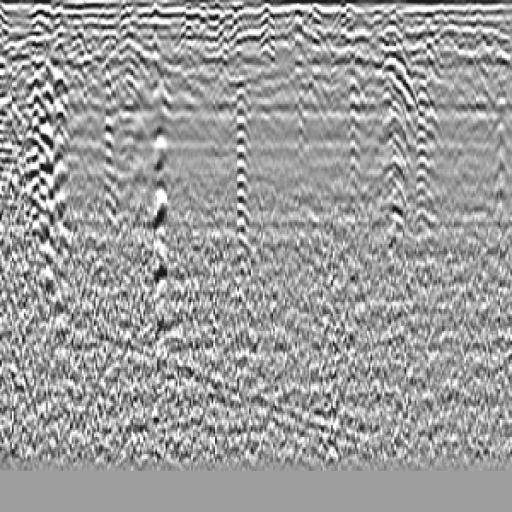metalic: (347, 23, 445, 214)
